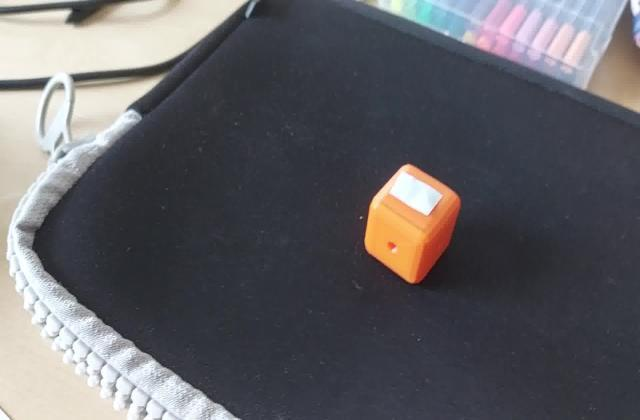sticker: (362, 160, 466, 288)
white: (394, 182, 445, 216)
